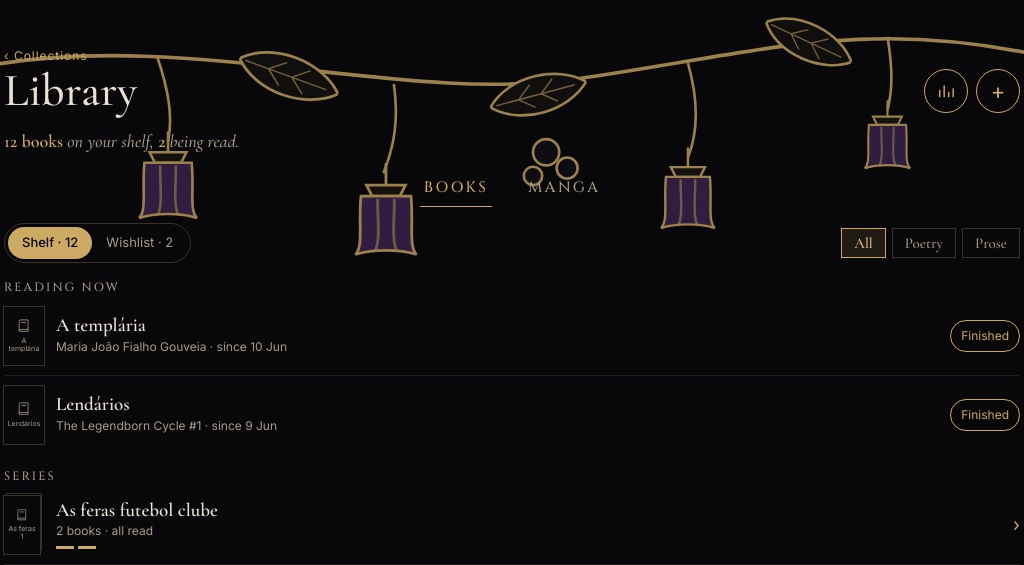
Test: + opens the book form and saving reloads the list
The image size is (1024, 565).
Click the button "+" at (998,91), box [976,69,1020,113]
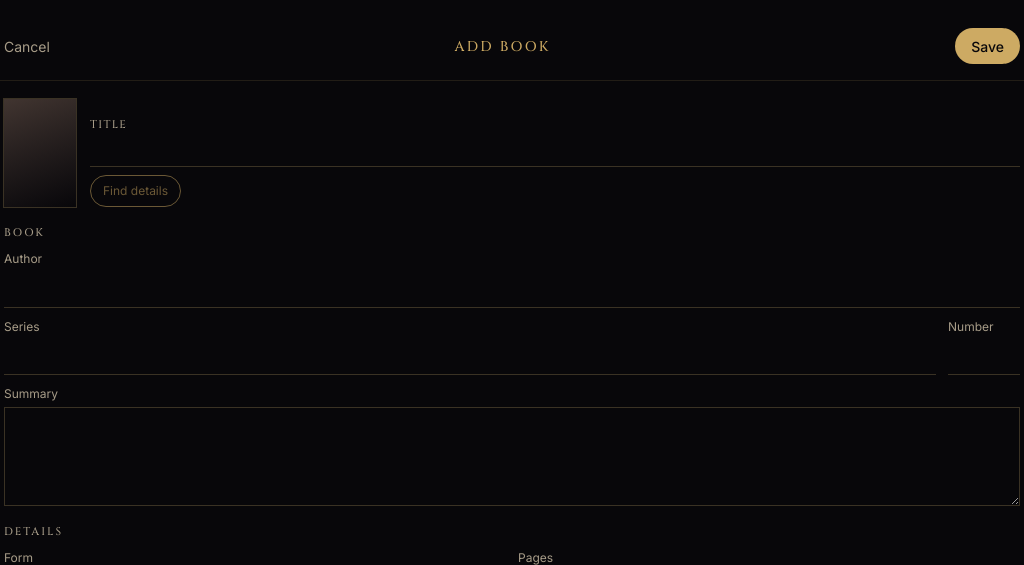
Type "Novo" into the field labelled "Title" at (555,152), box [90,136,1020,167]
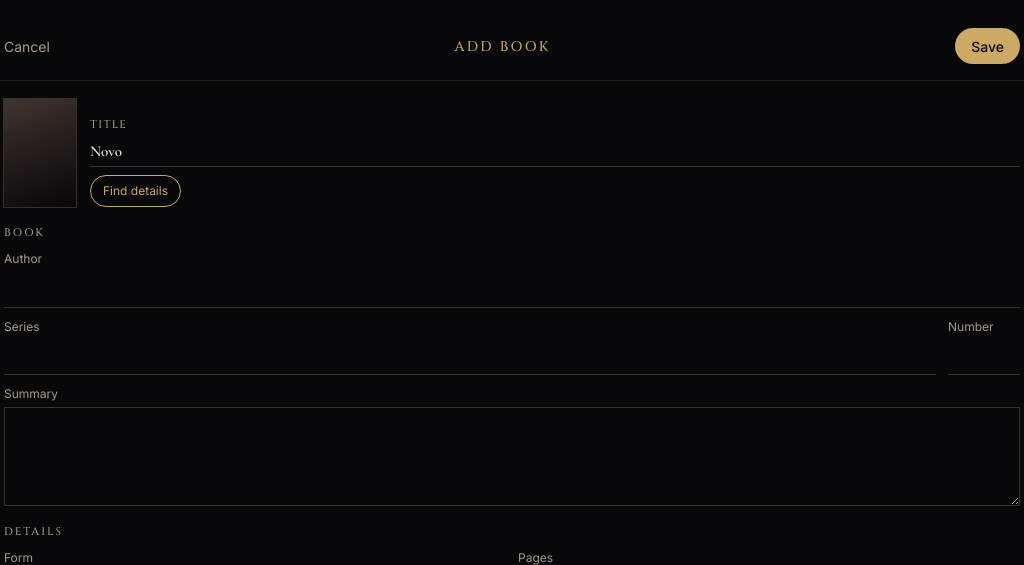
Click the button "Save" at (988,46), box [955,28,1020,64]
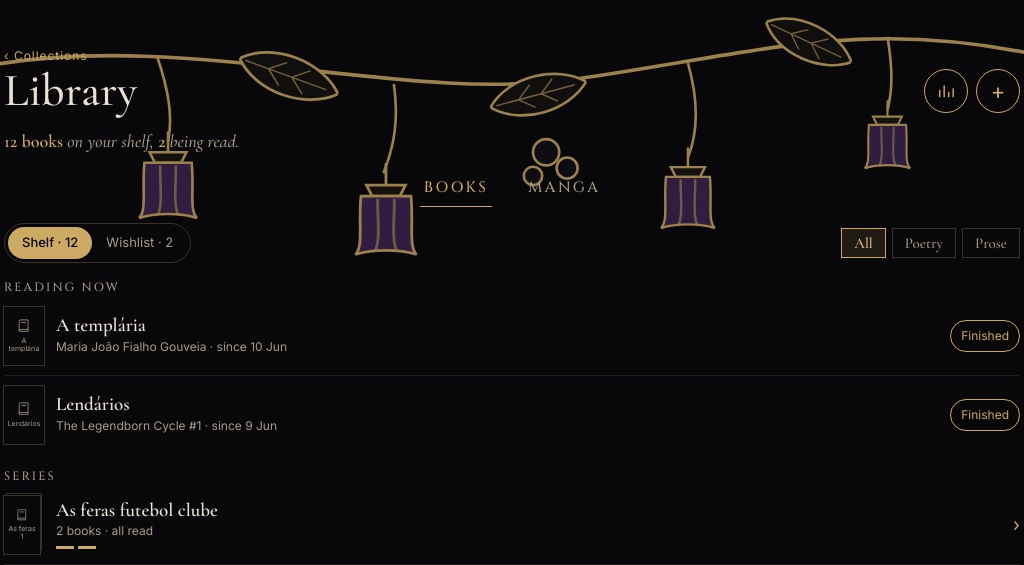
Result: the heading "Add book" is gone
Result: the heading "READING NOW" is shown at [4,278,120,294]
